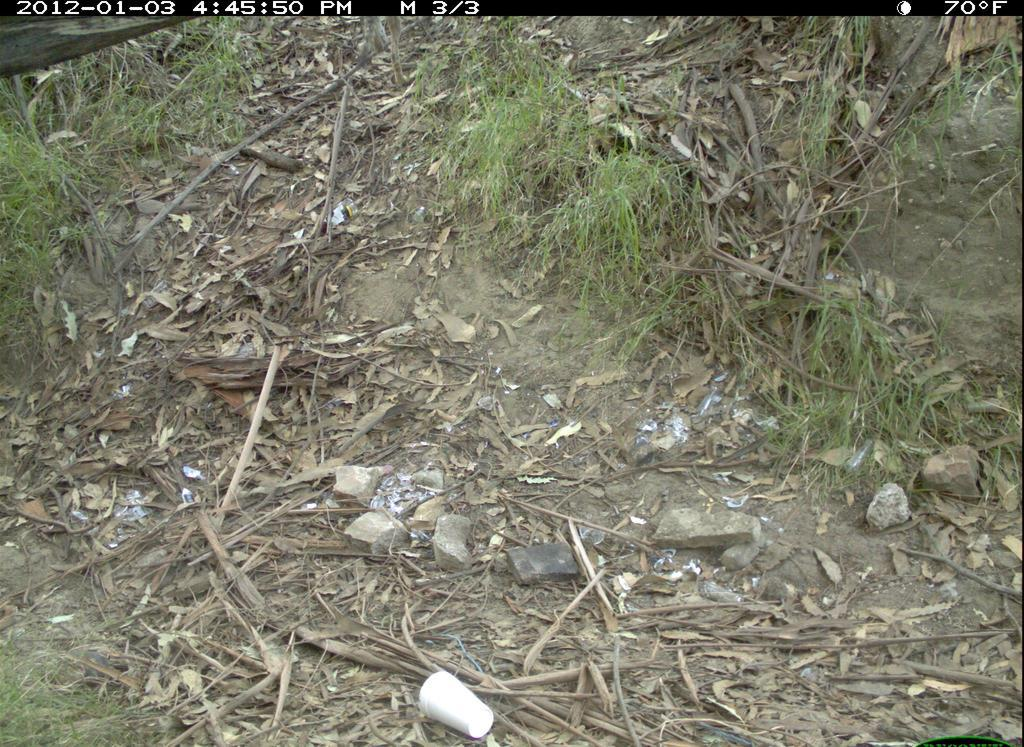coyote: (345, 14, 412, 89)
